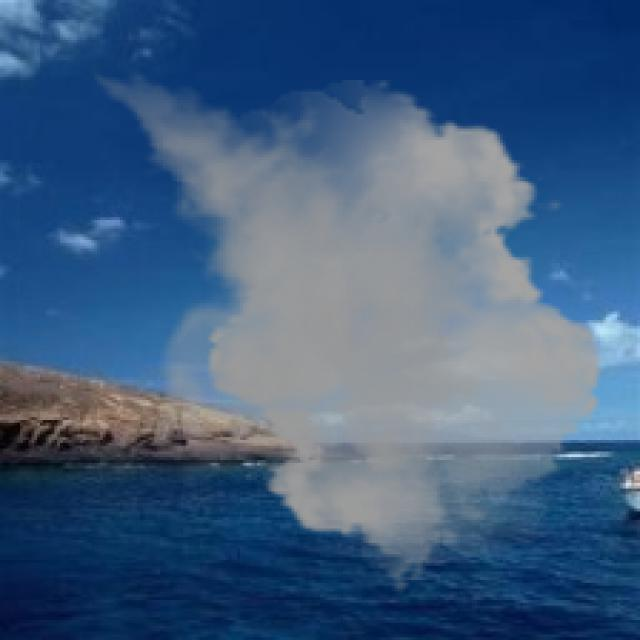Smoke: (65, 60, 618, 594)
